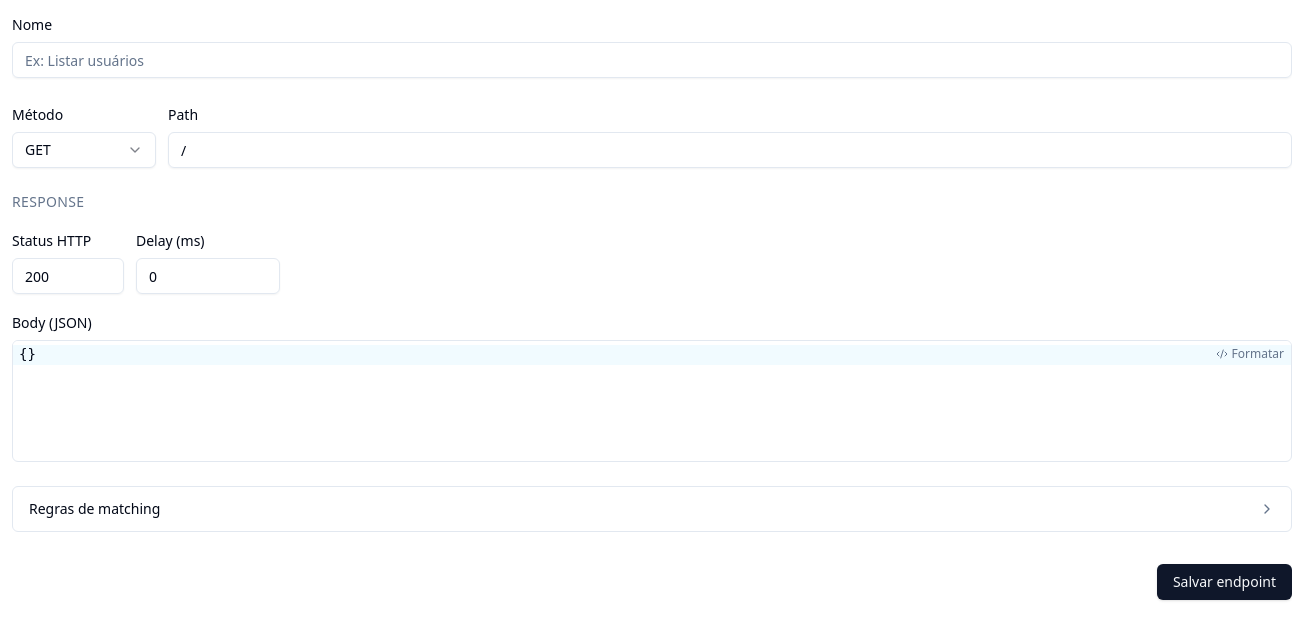
EndpointForm › exibe mensagem "Nome é obrigatório" ao submeter com name vazio
Clear the field with placeholder "Ex: Listar usuários" at [652, 60], box [12,42,1292,78]
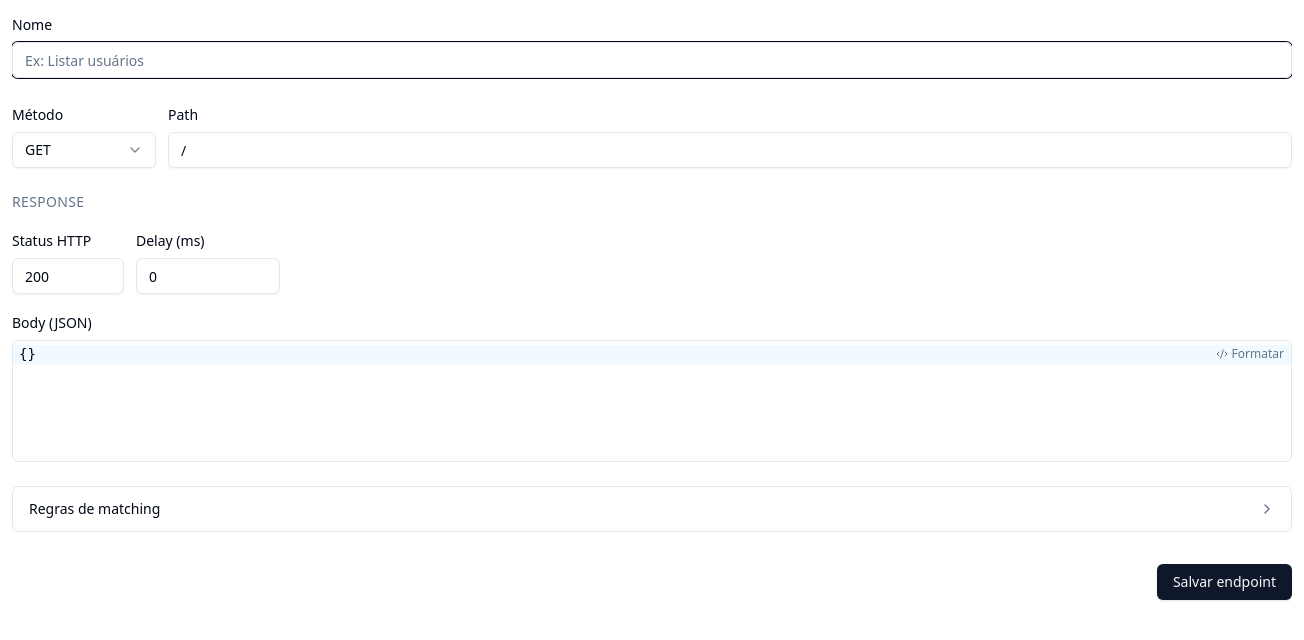
Click the button "Salvar endpoint" at [1224, 582], box [1157,564,1292,600]
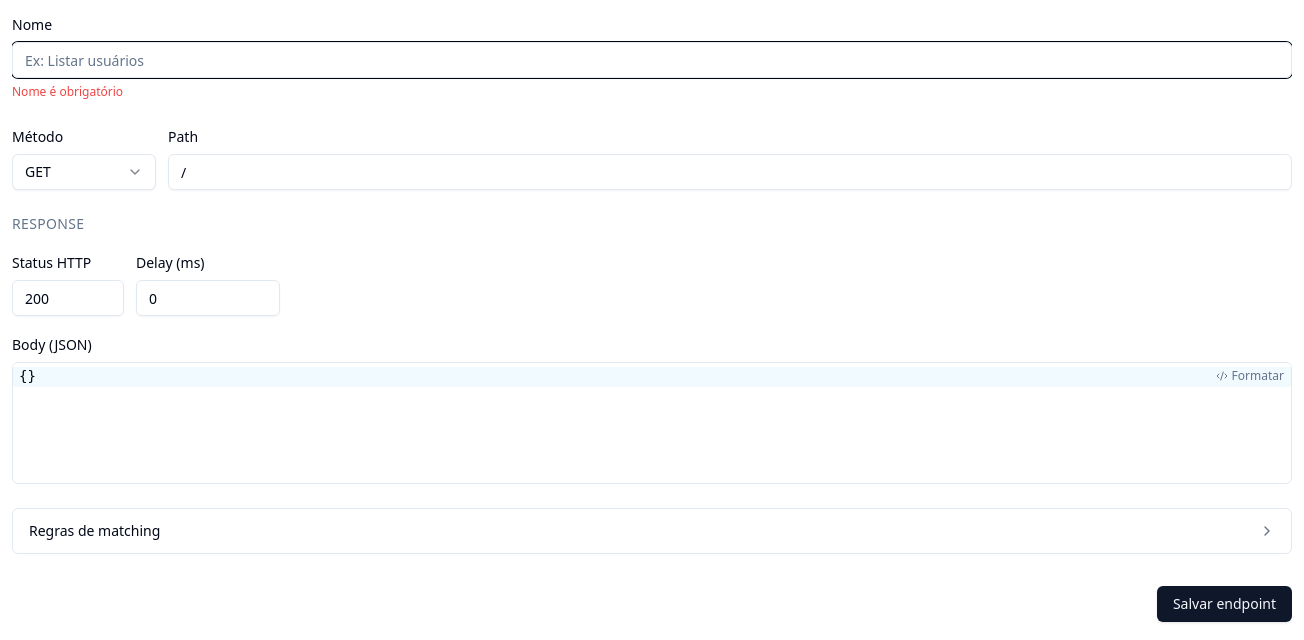
Now the text "Nome é obrigatório" is shown, box [12,83,123,100]
